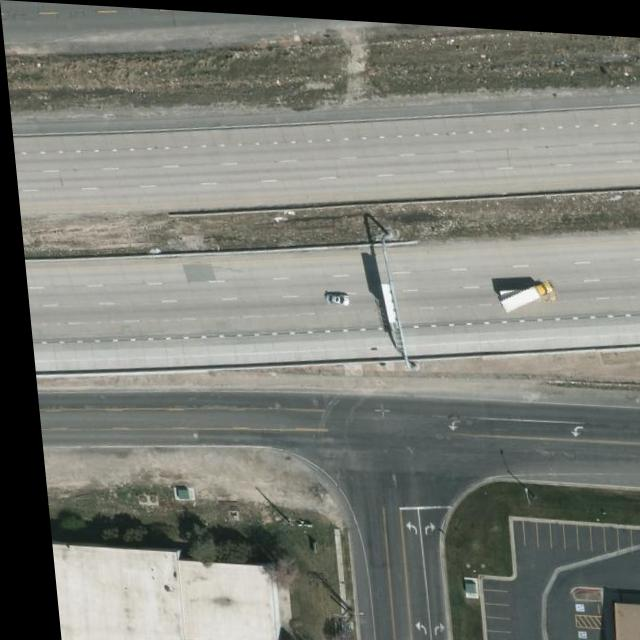vehicle: (492, 274, 555, 306), (318, 289, 346, 303), (635, 442, 640, 457)
